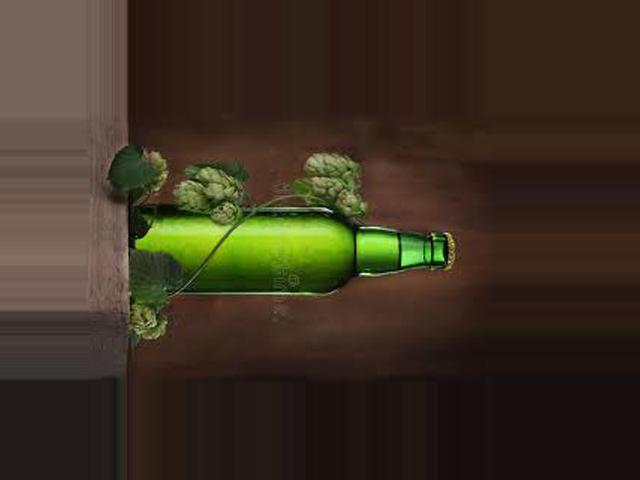beer: (122, 209, 455, 296)
